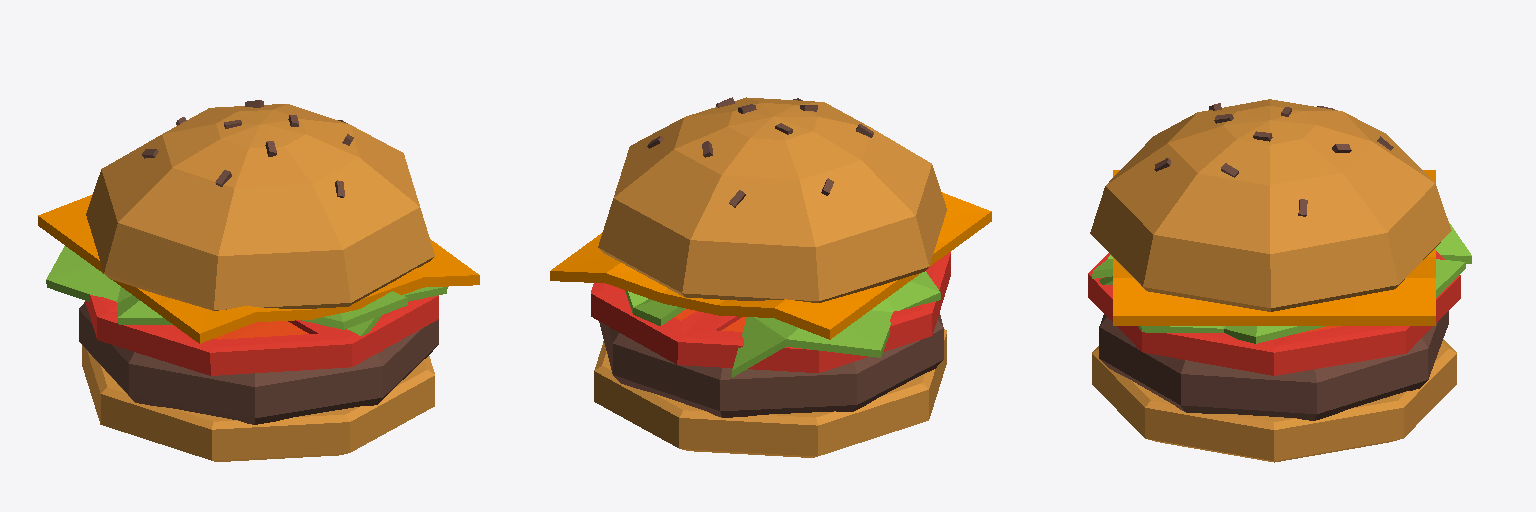
Rendered from cheeseburger.obj.
The picture shows the model from 3 angles: view 1: azimuth 30°, elevation 25°; view 2: azimuth 150°, elevation 25°; view 3: azimuth 270°, elevation 25°; orthographic projection.
Visible parts, largest first — view 1: Circle.003_Circle.004; view 2: Circle.003_Circle.004; view 3: Circle.003_Circle.004.
Part boxes in pixels (x1,y1,x2,y2): Circle.003_Circle.004: (38, 100, 479, 461); Circle.003_Circle.004: (550, 97, 991, 457); Circle.003_Circle.004: (1088, 99, 1471, 462).
Size of the model in its own units: 1 by 0.8145 by 1.03.